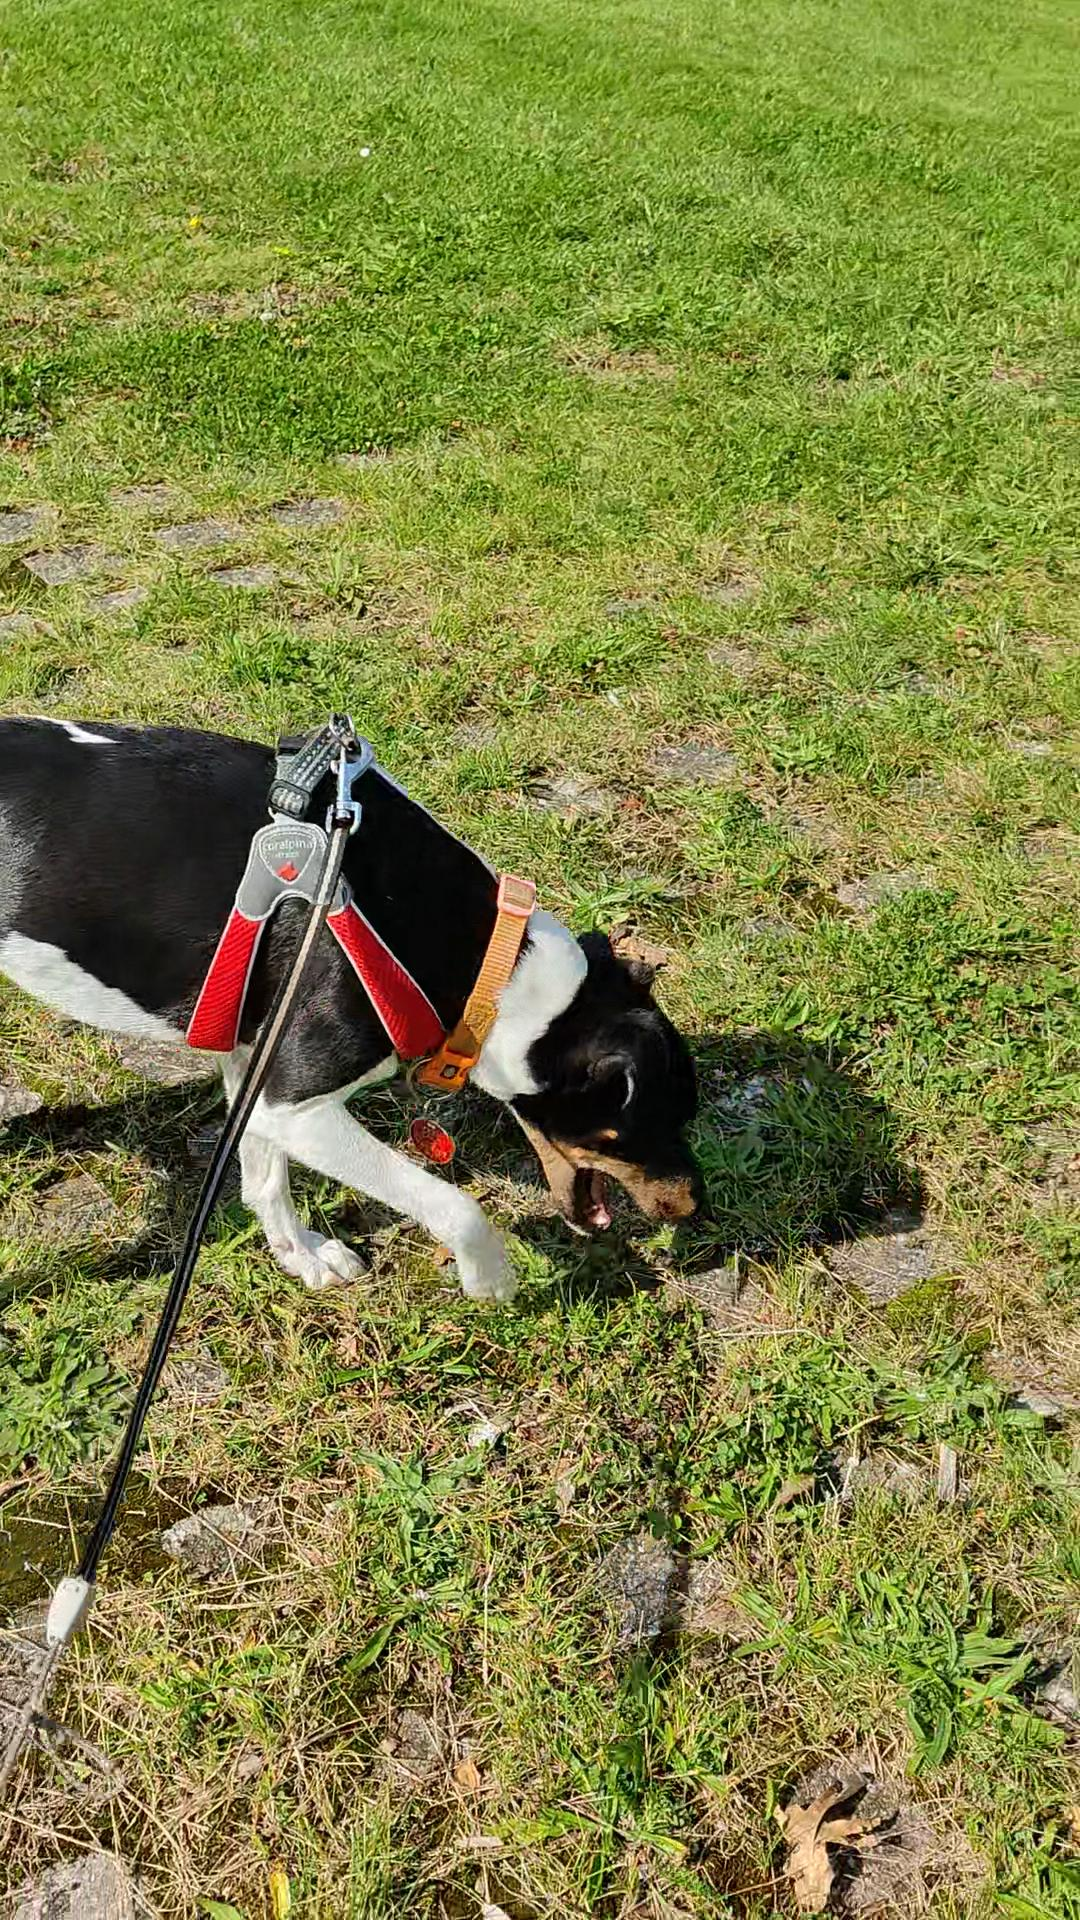Dog: (0, 679, 756, 1341)
